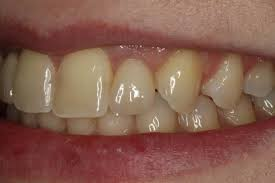normal: (54, 51, 108, 117), (15, 52, 54, 114), (112, 59, 155, 115), (244, 57, 273, 96), (135, 112, 177, 133), (99, 113, 134, 136), (65, 114, 98, 136), (2, 53, 15, 106), (39, 110, 65, 133), (253, 93, 275, 115), (17, 112, 37, 127), (6, 105, 21, 123)
rough: (205, 51, 243, 106)
yellow: (157, 46, 201, 111), (216, 91, 257, 126), (178, 96, 215, 132)
